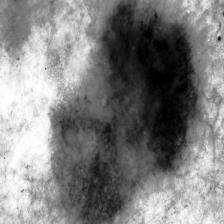Benign Marking or Mole: (46, 1, 196, 224)
